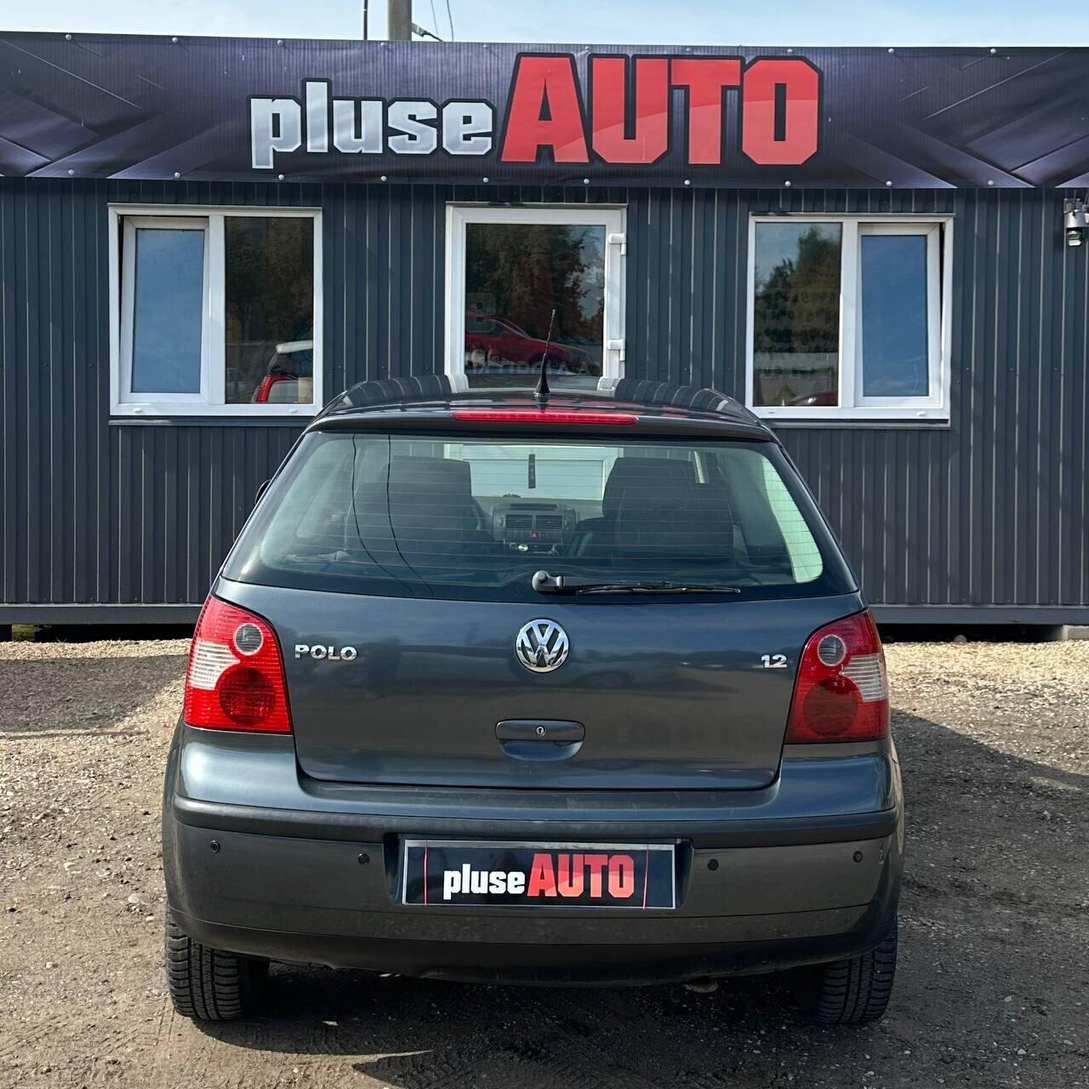Polo_2001-2005: (164, 349, 931, 1058)
